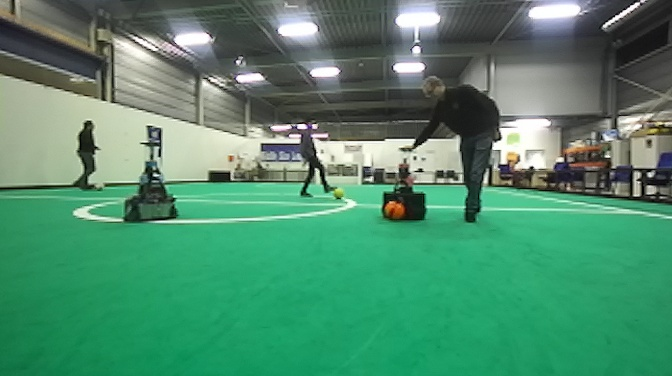ball: (382, 199, 405, 223), (332, 185, 347, 203), (95, 179, 109, 191)
goalpost: (356, 161, 363, 187)
human: (399, 74, 501, 224), (297, 117, 340, 201), (73, 117, 101, 191)
robot: (119, 138, 180, 226), (379, 144, 431, 225)
